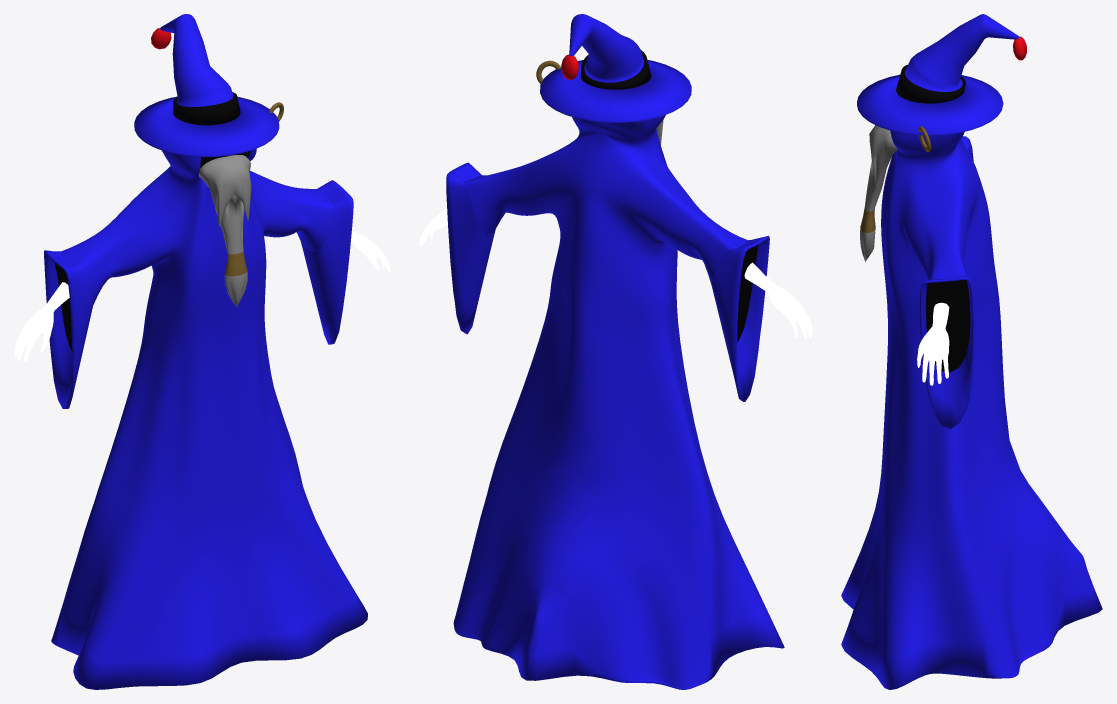
The model's file is BluePose 1.fbx.
The picture shows the model from 3 angles, left to right: view 1: azimuth 30°, elevation 25°; view 2: azimuth 150°, elevation 25°; view 3: azimuth 270°, elevation 25°; orthographic projection. The views are drawn at different scales.
Visible parts, largest first — view 1: Plane.012; view 2: Plane.012; view 3: Plane.012.
Boxes of the visible parts, <box> form: Plane.012: <box>14,14,390,689</box>; Plane.012: <box>419,14,812,689</box>; Plane.012: <box>841,14,1102,689</box>.
Bounding box in the file's own units: 162 × 252 × 97.89.
